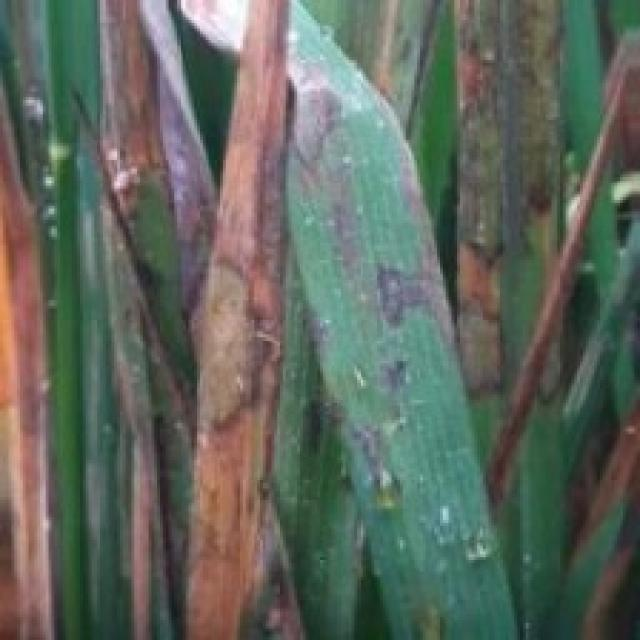Bacterial_Blight: (206, 0, 266, 640), (0, 134, 63, 640), (199, 259, 269, 435), (565, 543, 640, 640), (289, 64, 350, 176), (451, 300, 509, 398), (377, 250, 413, 332)
